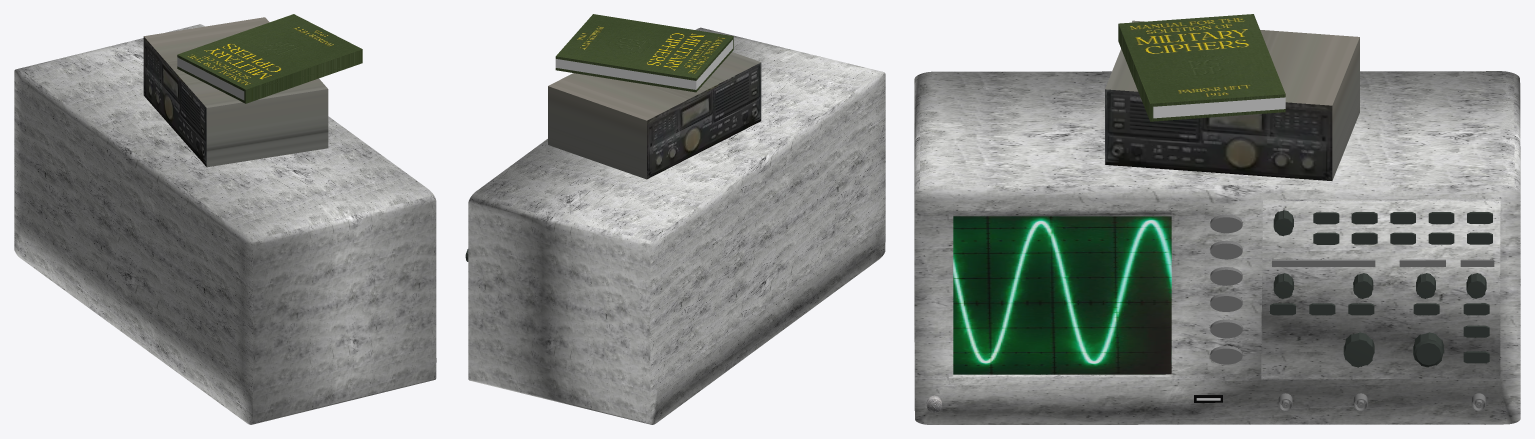
Rendered from oscilloscope.glb.
3 renders of one model, left to right at view 1: azimuth 30°, elevation 25°; view 2: azimuth 150°, elevation 25°; view 3: azimuth 270°, elevation 25°, orthographic. The views are drawn at different scales.
Visible parts, largest first — view 1: Cube.035, setup, Clipboard.002; view 2: Cube.035, setup, Clipboard.002; view 3: Cube.035, Oscilloscope screen, setup, Clipboard.002.
Boxes of the visible parts, x1,y1,x2,y2 form: Cube.035: [14, 24, 436, 424]; setup: [143, 17, 328, 167]; Clipboard.002: [177, 14, 362, 103]; Cube.035: [465, 27, 885, 424]; setup: [548, 52, 761, 179]; Clipboard.002: [555, 14, 733, 92]; Cube.035: [914, 71, 1520, 424]; Oscilloscope screen: [953, 216, 1171, 374]; setup: [1105, 20, 1359, 180]; Clipboard.002: [1118, 14, 1285, 121].
Size of the model in its own units: 0.3814 by 0.4692 by 0.775.
10 materials, 5 textured.
